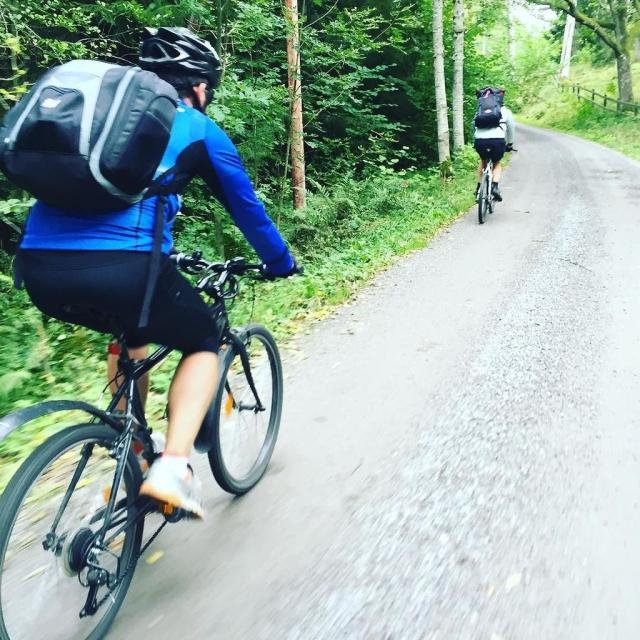helmet: (129, 26, 225, 90)
